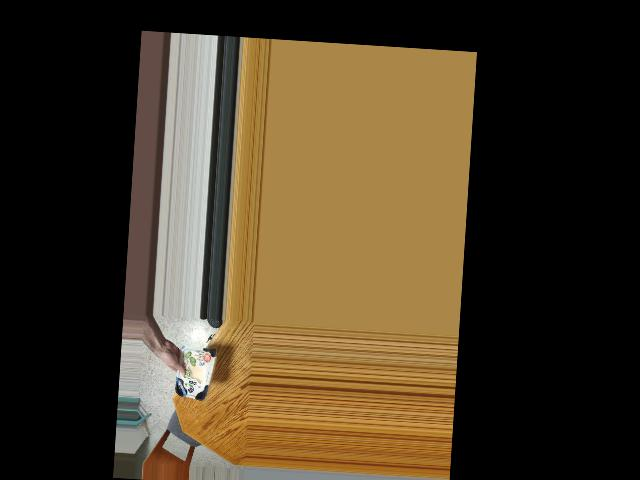cheese: (168, 344, 216, 400)
